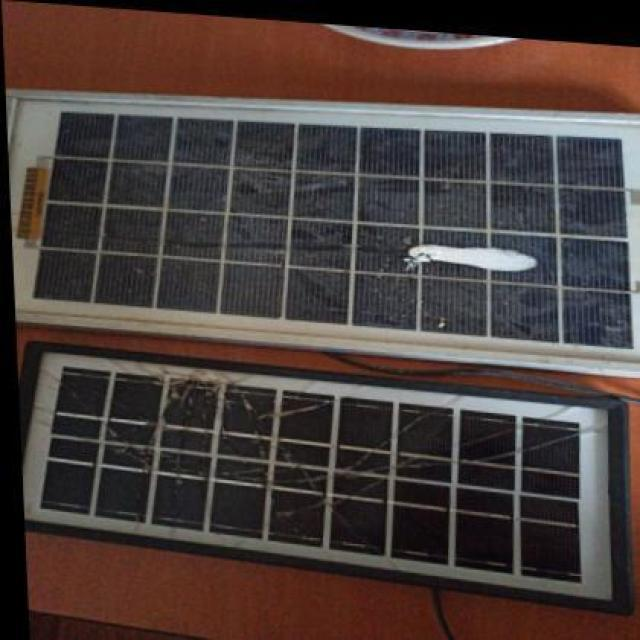cracked: (17, 341, 637, 616)
soiled: (9, 90, 639, 360)
